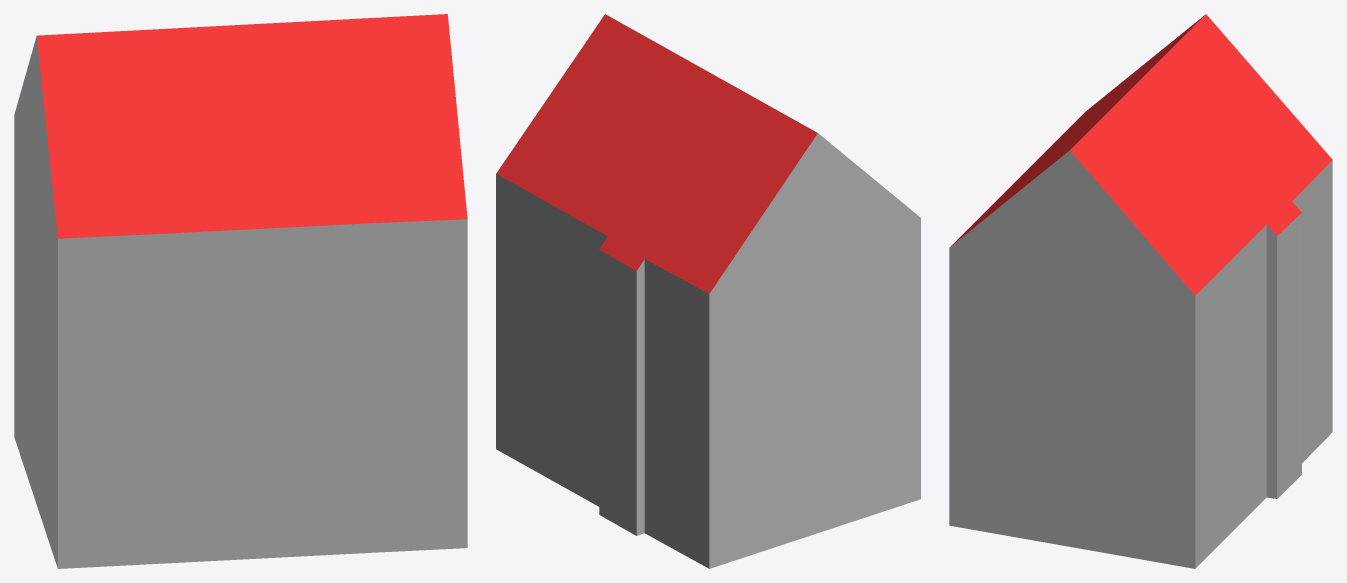
File: DEBY_LOD2_4907209.dae
3 views of the same model, side by side, from view 1: azimuth 30°, elevation 25°; view 2: azimuth 150°, elevation 25°; view 3: azimuth 270°, elevation 25° (orthographic). The views are drawn at different scales.
Size of the model in its own units: 24.48 by 22.17 by 25.31.
